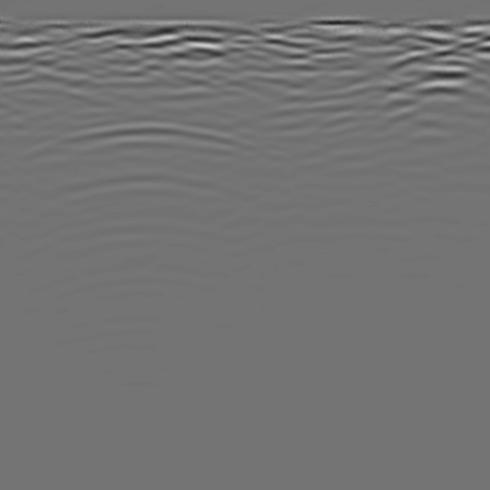hyperbola: (26, 108, 274, 264)
